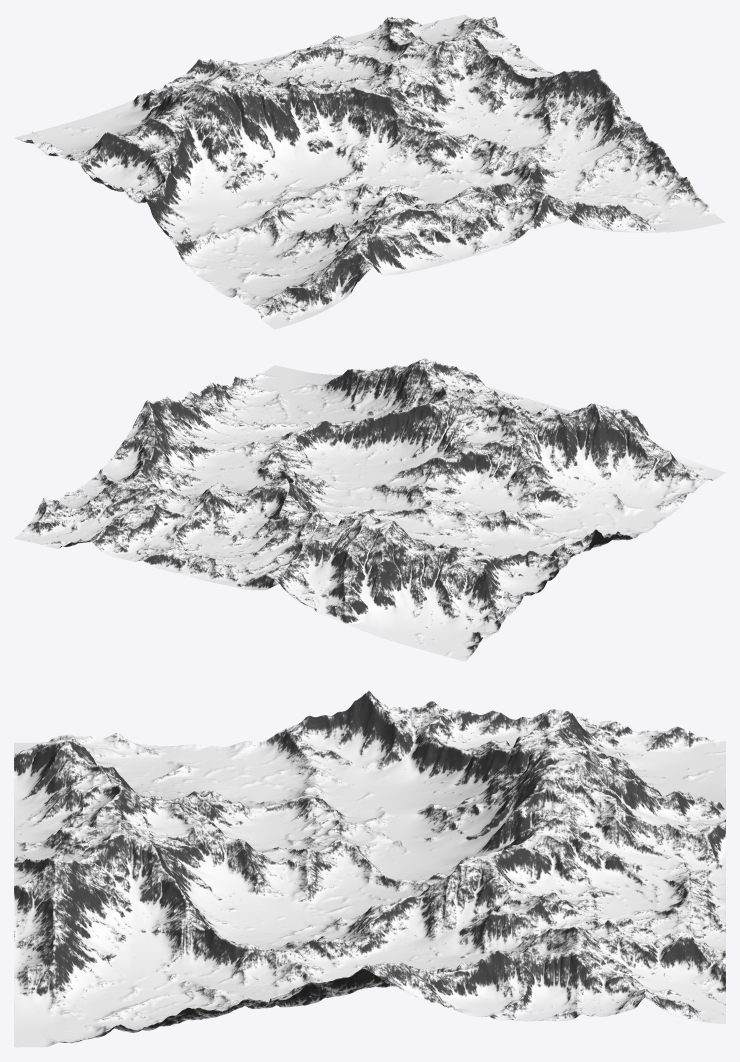
The model's file is ice_04.glb.
The picture shows the model from 3 angles, top to bottom: view 1: azimuth 30°, elevation 25°; view 2: azimuth 150°, elevation 25°; view 3: azimuth 270°, elevation 25°; orthographic projection. The views are drawn at different scales.
Parts seen in each view (by area): view 1: Object_2, Object_3, Object_4; view 2: Object_3, Object_2, Object_4; view 3: Object_2, Object_3, Object_4.
Boxes of the visible parts, x1=… form: Object_2: x1=14, y1=40, x2=725, y2=329; Object_3: x1=29, y1=14, x2=718, y2=278; Object_4: x1=199, y1=143, x2=712, y2=319; Object_3: x1=14, y1=369, x2=648, y2=657; Object_2: x1=84, y1=358, x2=725, y2=661; Object_4: x1=204, y1=358, x2=708, y2=531; Object_2: x1=14, y1=691, x2=725, y2=1047; Object_3: x1=31, y1=691, x2=725, y2=1047; Object_4: x1=26, y1=737, x2=236, y2=1045.
Bounding box in the file's own units: 2 × 0.2843 × 2.
Materials: 1 (1 with a texture image).
